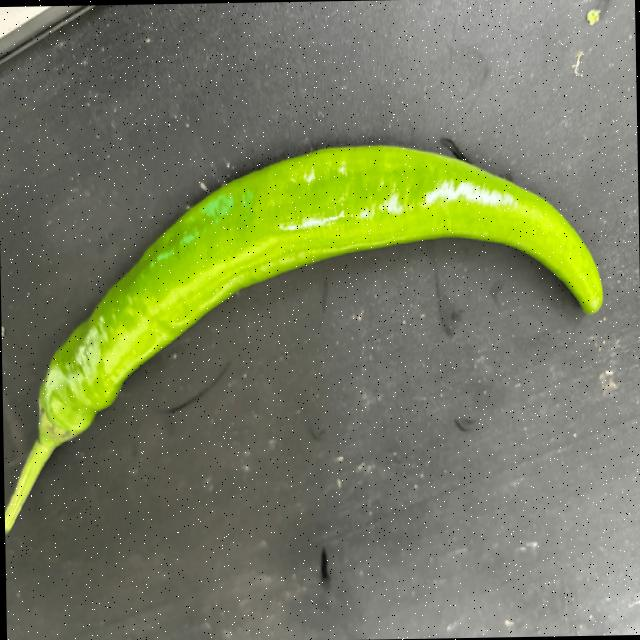chili: (33, 141, 603, 442)
